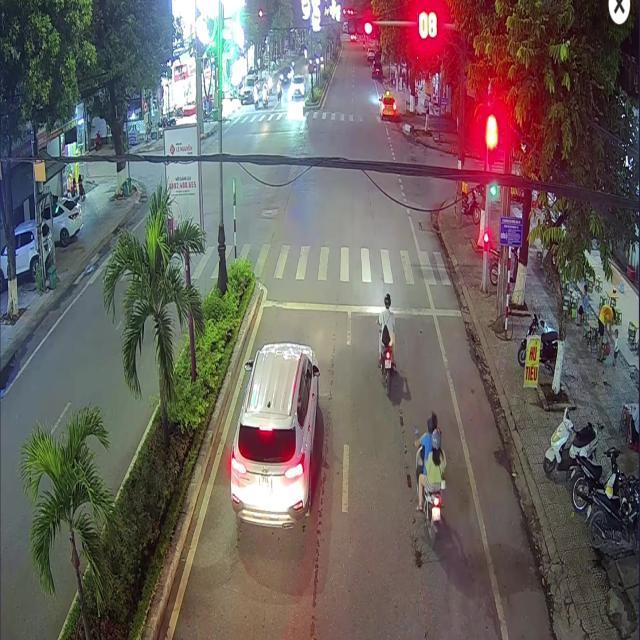car: (231, 342, 318, 522), (378, 89, 396, 117)
motobike: (421, 491, 441, 542), (380, 345, 391, 395)
red_light: (346, 15, 373, 36), (486, 132, 495, 168), (483, 233, 487, 251)
stop_line: (263, 299, 460, 315)
